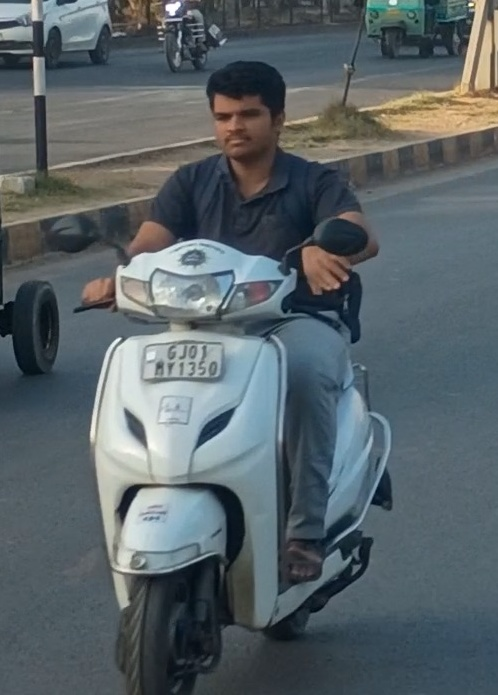BikeWithRider: (37, 29, 419, 695)
NoHelmet: (199, 56, 288, 169)
